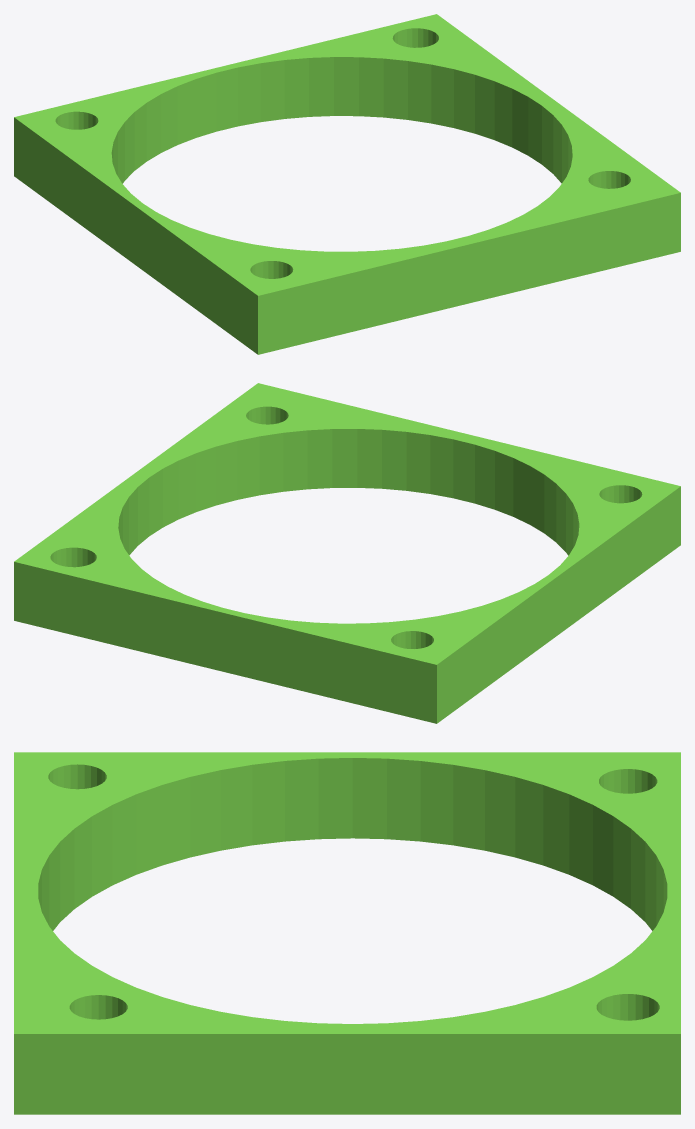
The picture shows the model from 3 angles, top to bottom: view 1: azimuth 30°, elevation 25°; view 2: azimuth 150°, elevation 25°; view 3: azimuth 270°, elevation 25°; orthographic projection. The views are drawn at different scales.
Visible parts, largest first — view 1: 4; view 2: 4; view 3: 4.
Part boxes in pixels (x1,y1,x2,y2): 4: (14,14,680,354); 4: (14,383,680,723); 4: (14,752,680,1114).
Bounding box in the file's own units: 1.43 × 0.1905 × 1.43.
